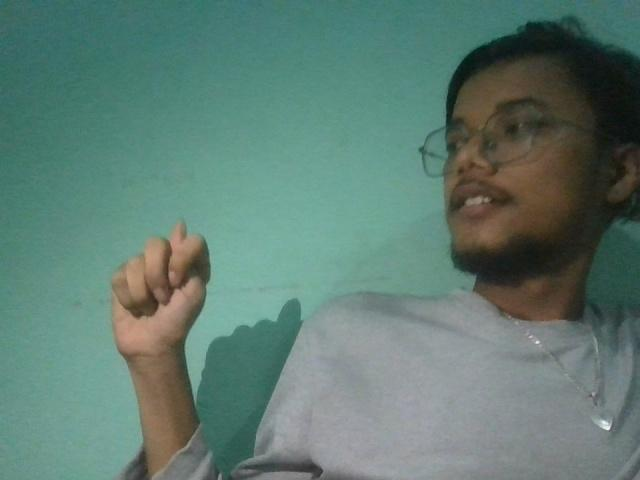Washroom: (101, 207, 219, 368)
